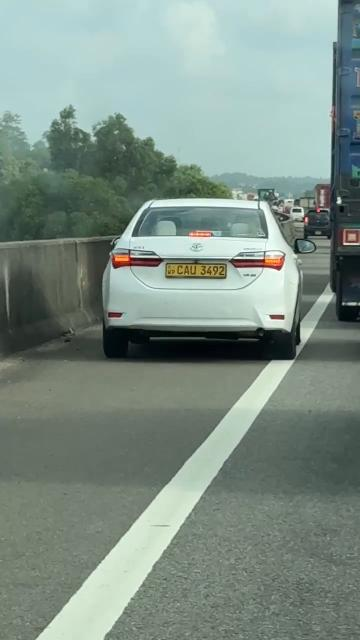illegal overtaking: (90, 188, 320, 358)
number plate: (155, 257, 235, 283)
